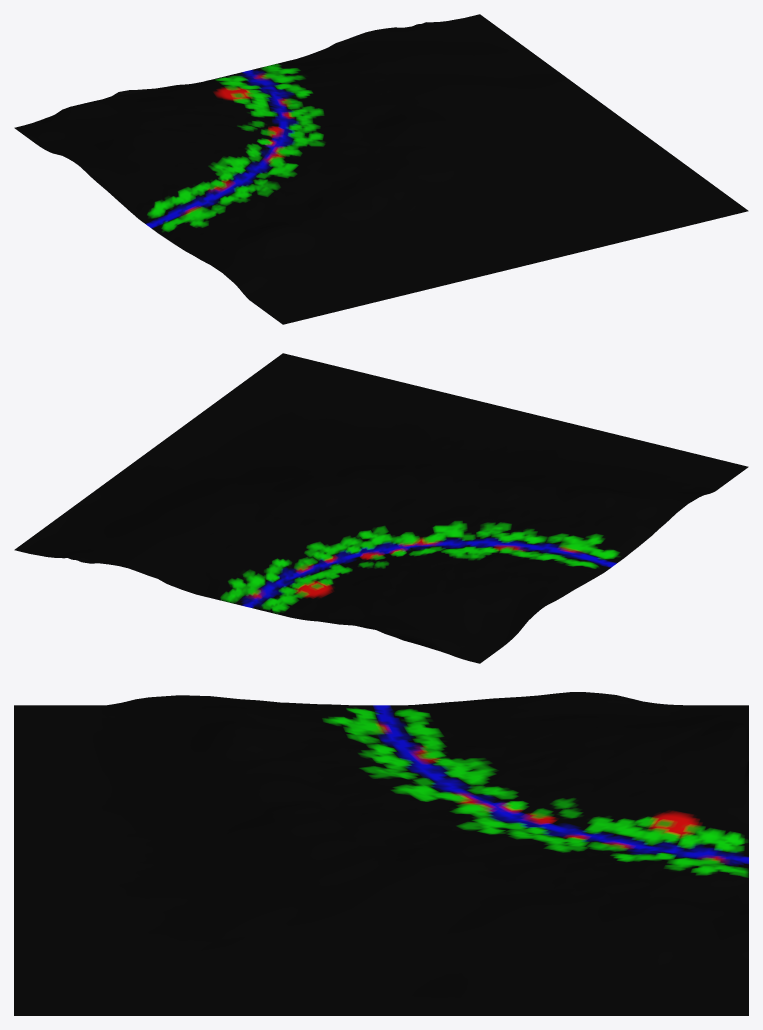
The model's file is Terrain_LoopForest_Distance_C_01.fbx.
3 views of the same model, one above another, from view 1: azimuth 30°, elevation 25°; view 2: azimuth 150°, elevation 25°; view 3: azimuth 270°, elevation 25° (orthographic). The views are drawn at different scales.
Visible parts, largest first — view 1: Terrain_LoopForest_Distance_C_01; view 2: Terrain_LoopForest_Distance_C_01; view 3: Terrain_LoopForest_Distance_C_01.
Part boxes in pixels (box(x1,y1,x2,y2)): Terrain_LoopForest_Distance_C_01: box(14, 14, 748, 324); Terrain_LoopForest_Distance_C_01: box(14, 353, 748, 663); Terrain_LoopForest_Distance_C_01: box(14, 692, 748, 1015).
Bounding box in the file's own units: 29999 × 1209 × 30000.
